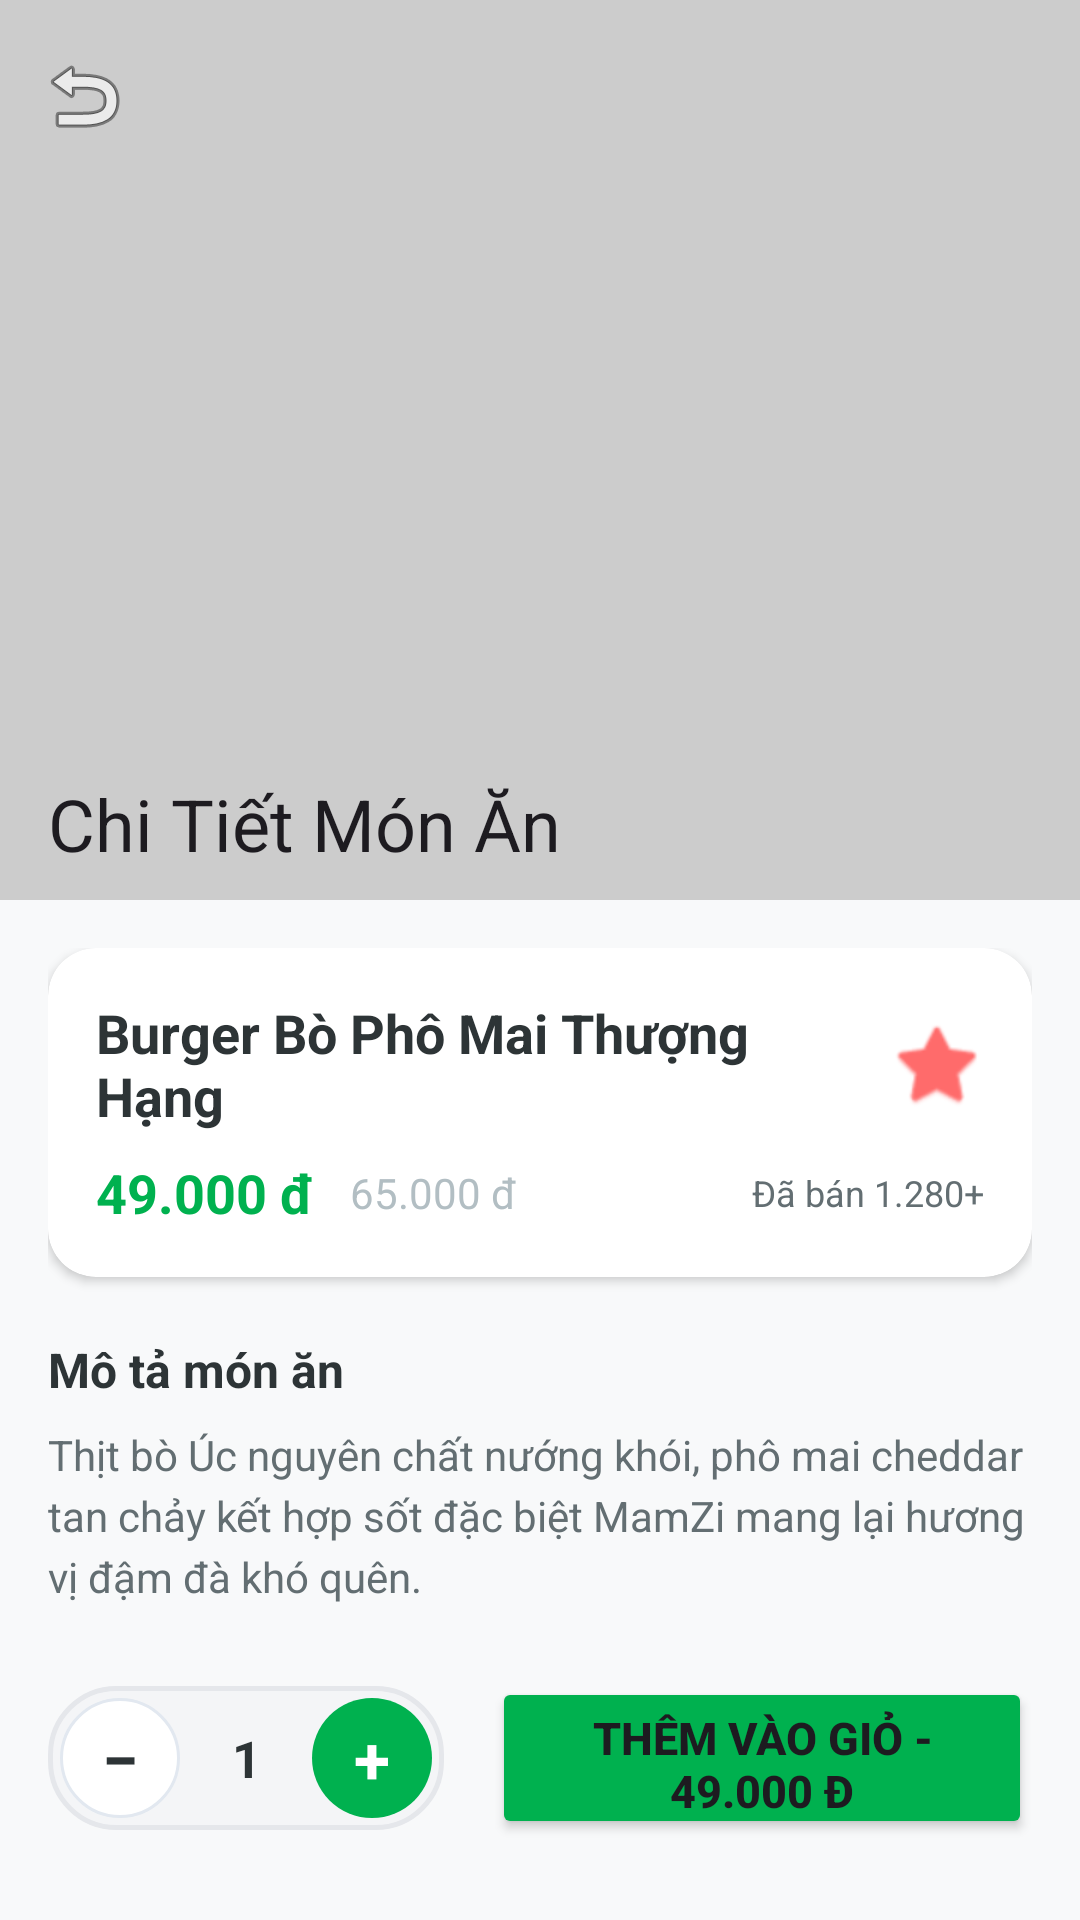

Icons on this 1080 x 1920 Android screen, each with its box as (x1, y1, x2, y2):
Wishlist: (897, 1026, 977, 1103)
